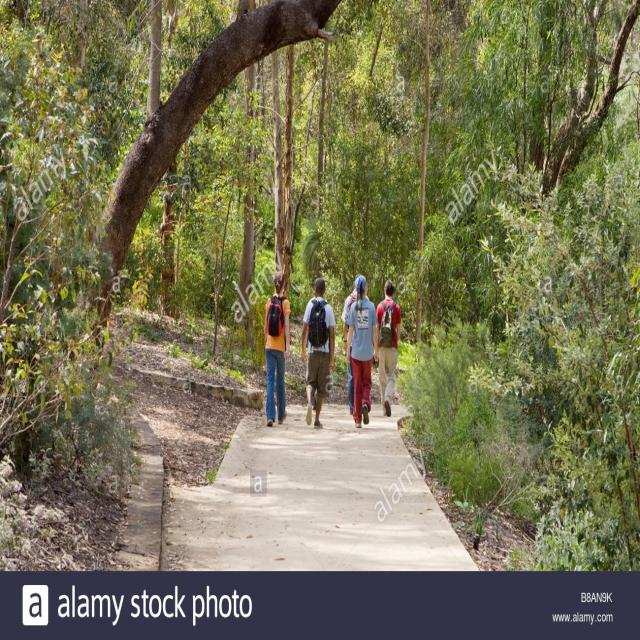body: (300, 276, 336, 431), (346, 273, 380, 430), (262, 269, 292, 428), (341, 273, 371, 416), (373, 278, 403, 419)
